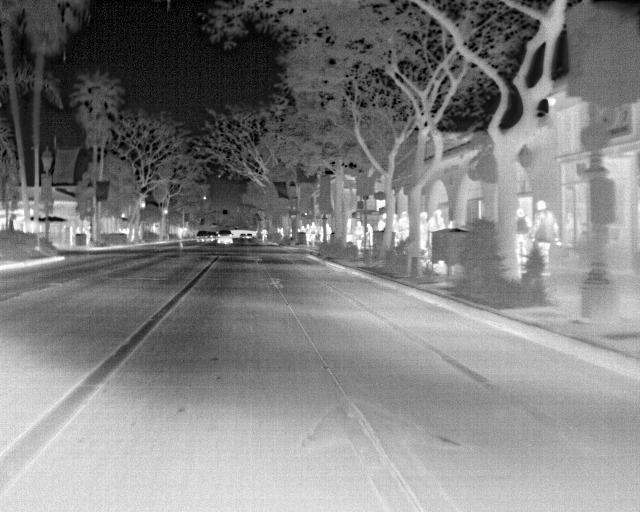bicycle: (216, 228, 234, 246), (194, 228, 210, 244)
empty: (528, 198, 563, 277), (514, 207, 530, 270), (419, 210, 431, 254), (396, 209, 411, 242), (351, 219, 365, 250), (364, 221, 378, 248), (306, 222, 320, 245), (430, 208, 445, 227), (258, 227, 268, 242)
